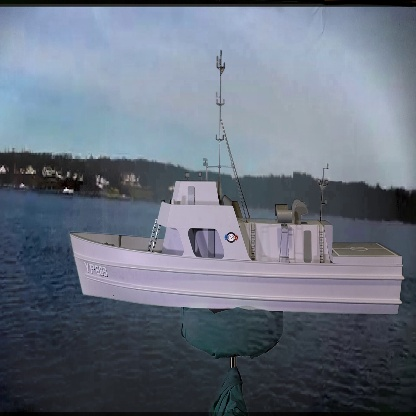YP689: (68, 50, 406, 322)
